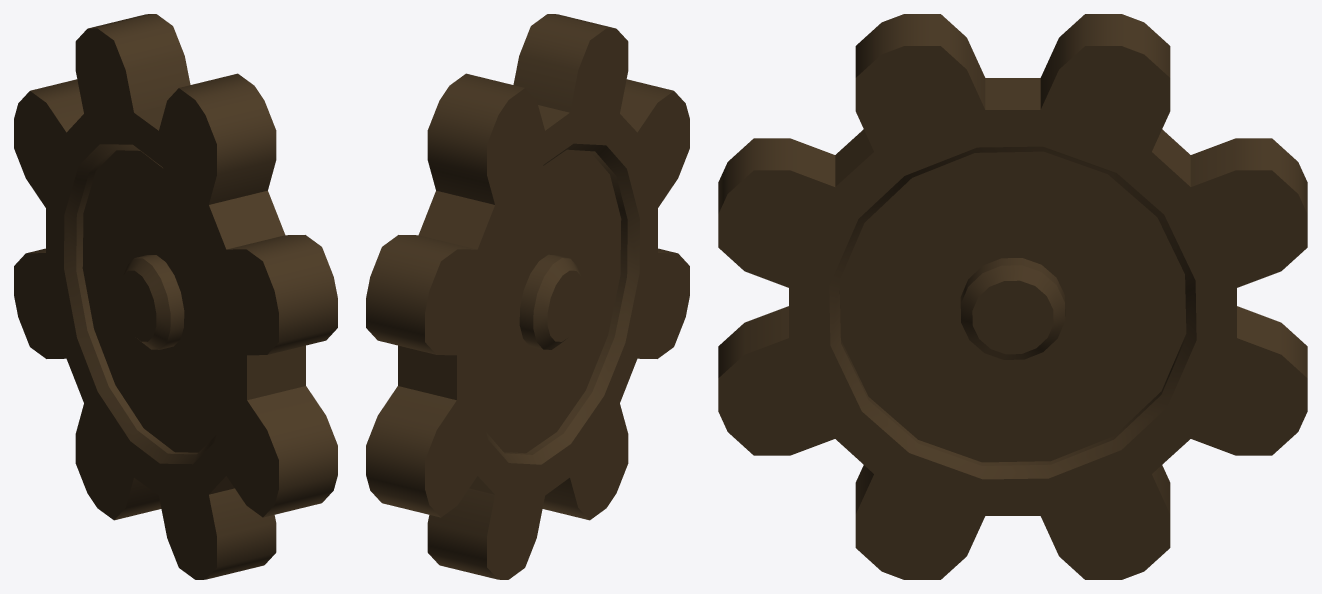
Rendered from Cogwheels_01.fbx.
3 renders of one model, left to right at view 1: azimuth 30°, elevation 25°; view 2: azimuth 150°, elevation 25°; view 3: azimuth 270°, elevation 25°, orthographic. The views are drawn at different scales.
Visible parts, largest first — view 1: Cylinder.007; view 2: Cylinder.007; view 3: Cylinder.007.
Part boxes in pixels (left/top/right/bottom): Cylinder.007: left=14, top=14, right=337, bottom=579; Cylinder.007: left=366, top=14, right=689, bottom=579; Cylinder.007: left=718, top=14, right=1307, bottom=579.
Size of the model in its own units: 0.1309 by 0.7926 by 0.7926.
